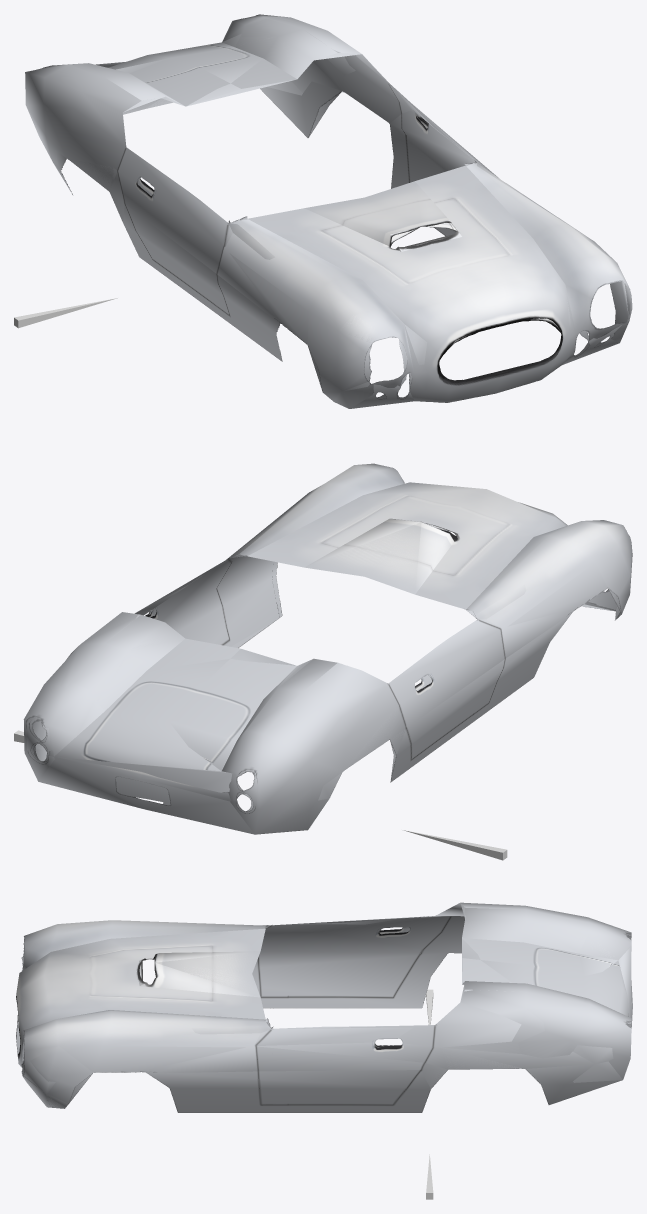
The model's file is Roadster.FBX.
3 renders of one model, top to bottom at view 1: azimuth 30°, elevation 25°; view 2: azimuth 150°, elevation 25°; view 3: azimuth 270°, elevation 25°, orthographic. The views are drawn at different scales.
Parts seen in each view (by area): view 1: Roadster3BodyDoorCut, Roadster1BodyLores, Roadster0BodySuperLow, DoorR, Roadster2BodyWindowed, EnterR; view 2: Roadster3BodyDoorCut, Roadster1BodyLores, Roadster0BodySuperLow, DoorR, Roadster2BodyWindowed, EnterR; view 3: Roadster1BodyLores, Roadster3BodyDoorCut, Roadster0BodySuperLow, Roadster2BodyWindowed.
Part boxes in pixels (left/top/right/bottom): Roadster3BodyDoorCut: left=25, top=14, right=631, bottom=408; Roadster1BodyLores: left=44, top=16, right=632, bottom=390; Roadster0BodySuperLow: left=55, top=34, right=628, bottom=408; DoorR: left=118, top=147, right=228, bottom=265; Roadster2BodyWindowed: left=121, top=62, right=487, bottom=273; EnterR: left=14, top=298, right=117, bottom=328; Roadster3BodyDoorCut: left=23, top=483, right=632, bottom=834; Roadster1BodyLores: left=30, top=463, right=621, bottom=829; Roadster0BodySuperLow: left=33, top=466, right=619, bottom=811; DoorR: left=394, top=619, right=505, bottom=718; Roadster2BodyWindowed: left=26, top=643, right=490, bottom=813; EnterR: left=403, top=830, right=507, bottom=860; Roadster1BodyLores: left=16, top=907, right=632, bottom=1112; Roadster3BodyDoorCut: left=16, top=902, right=631, bottom=1106; Roadster0BodySuperLow: left=18, top=902, right=631, bottom=1108; Roadster2BodyWindowed: left=256, top=928, right=632, bottom=1071.
Size of what is drawn, in the model's own units: 330 by 143 by 425.
